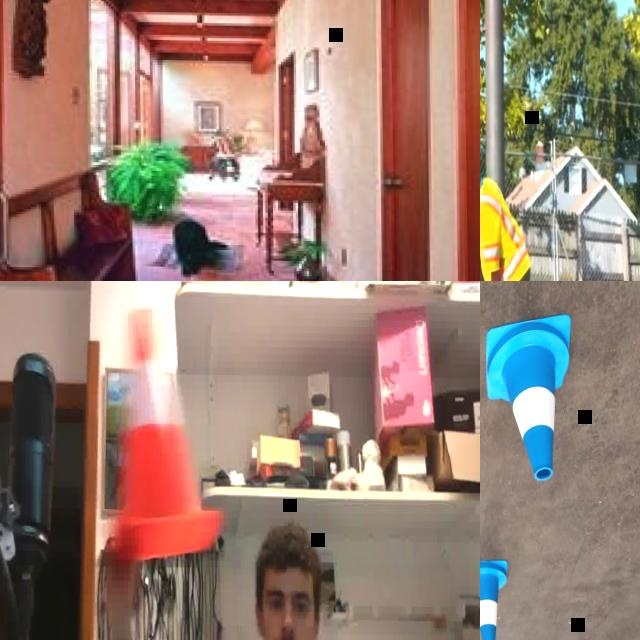NO-Hardhat: (256, 521, 317, 581)
Person: (99, 518, 368, 640), (480, 141, 532, 281)
Safety Cone: (105, 299, 227, 570), (482, 311, 576, 480), (480, 556, 511, 640)
Safety Vest: (480, 177, 530, 281)
